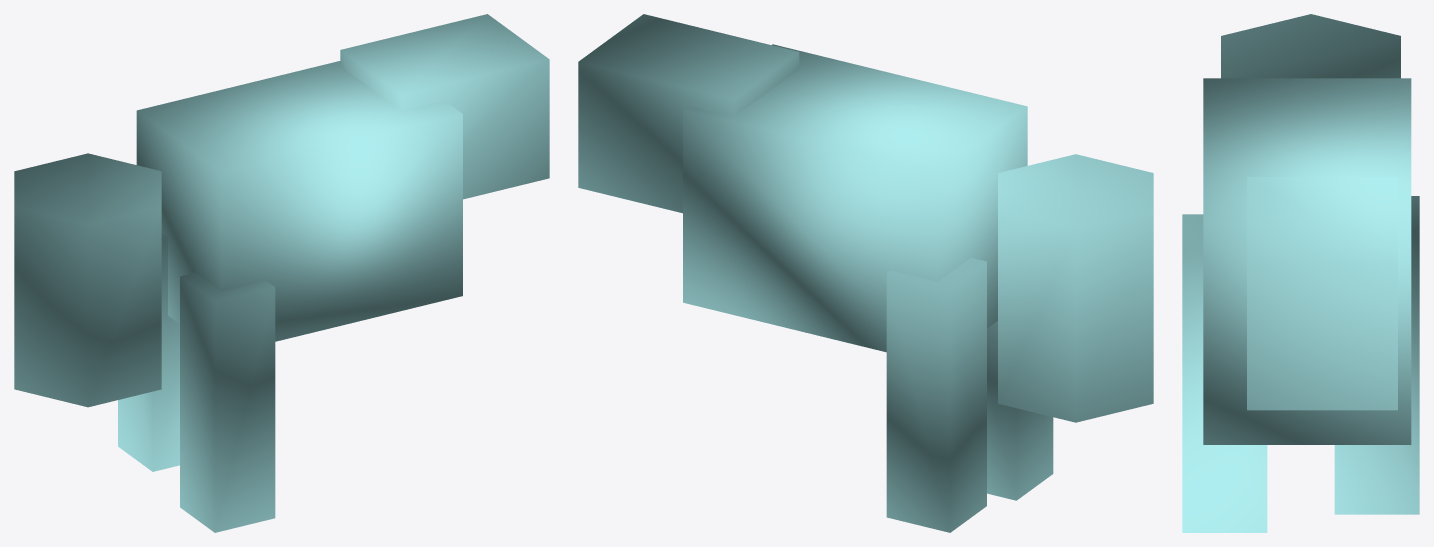
File: ps2_jrpg_stone_golem_enemy.obj
The picture shows the model from 3 angles, left to right: view 1: azimuth 30°, elevation 25°; view 2: azimuth 150°, elevation 25°; view 3: azimuth 270°, elevation 25°; orthographic projection. The views are drawn at different scales.
Size of the model in its own units: 1.52 by 1.05 by 0.503.
